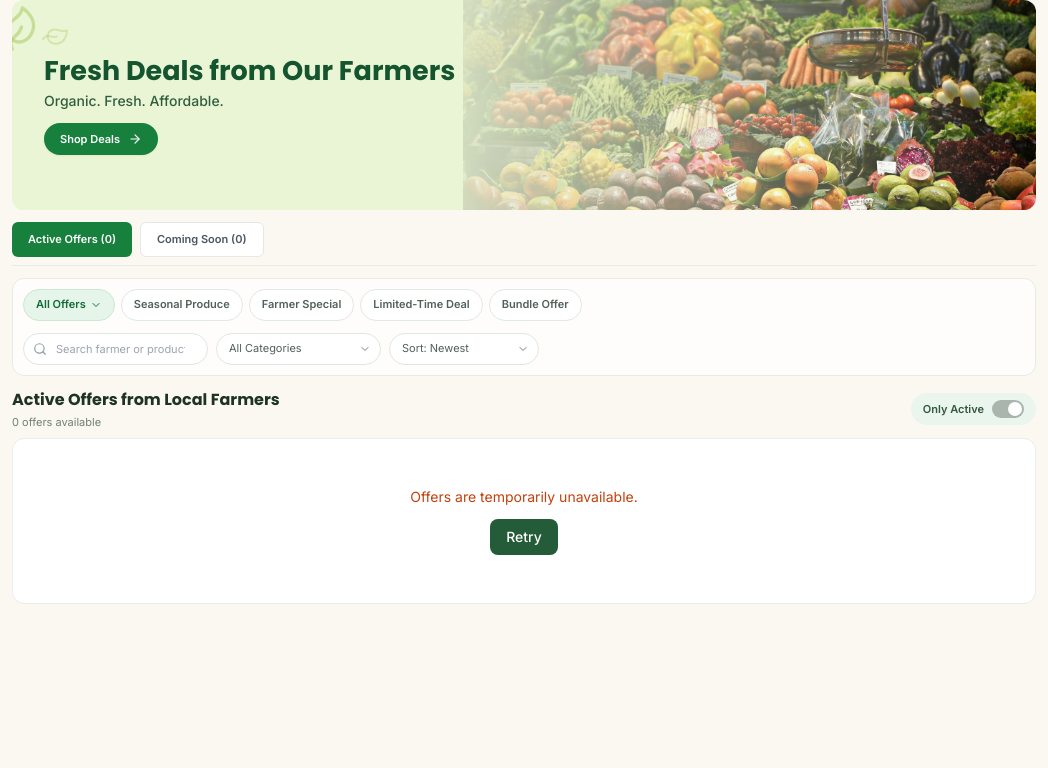
Test: Customer Offers › shows an error state and retries the offers request
Expected: the text "Offers are temporarily unavailable." is shown, [410,487,638,507]
Click the button "Retry".
click(524, 537)  # box [490,519,558,555]
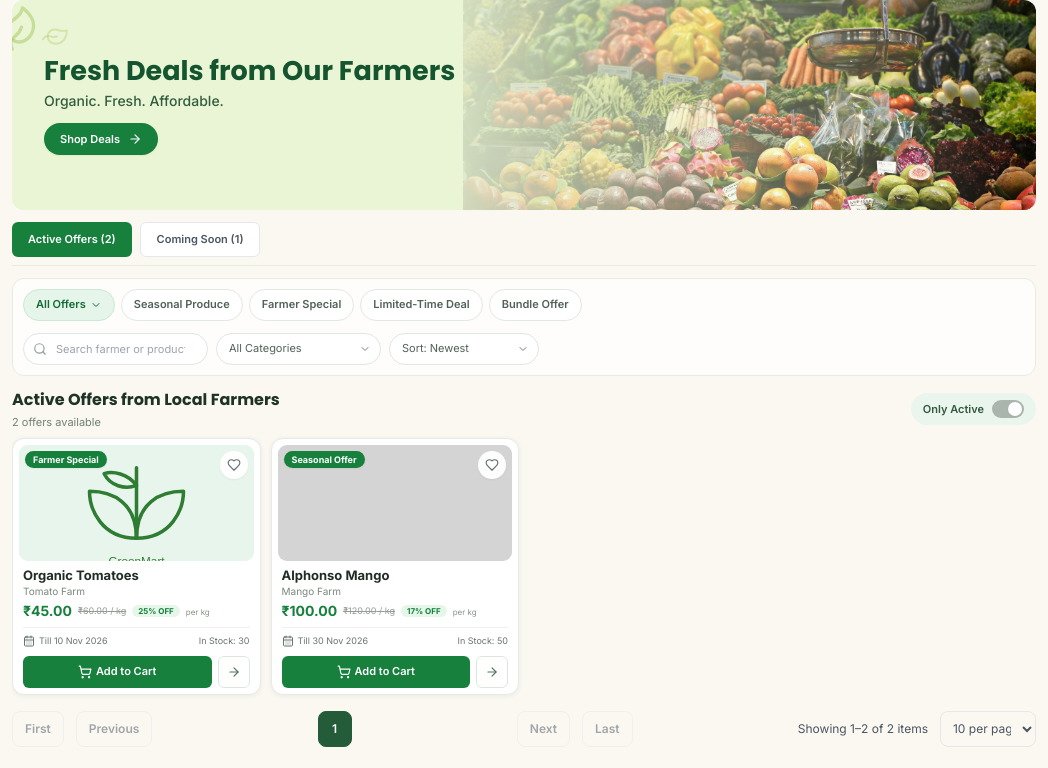
Now the link "Alphonso Mango" is shown, box [282,567,389,583]
